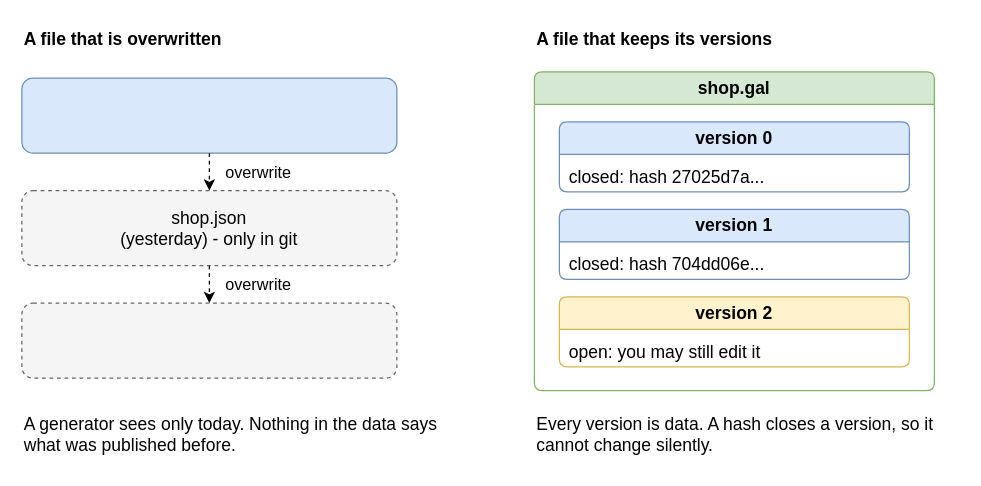
The diagram is 981 pixels wide and 486 high, and some of its shapes have lost their labels. The centre of each missing label's shape, as x and y in pixels:
"shop.json (last month) - only in git" belongs at [209,340].
"shop.json (today)" belongs at [209,115].
